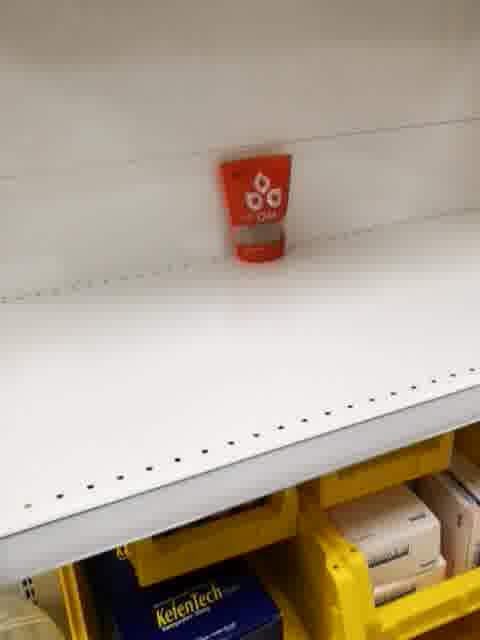whitechia: (220, 151, 292, 265)
